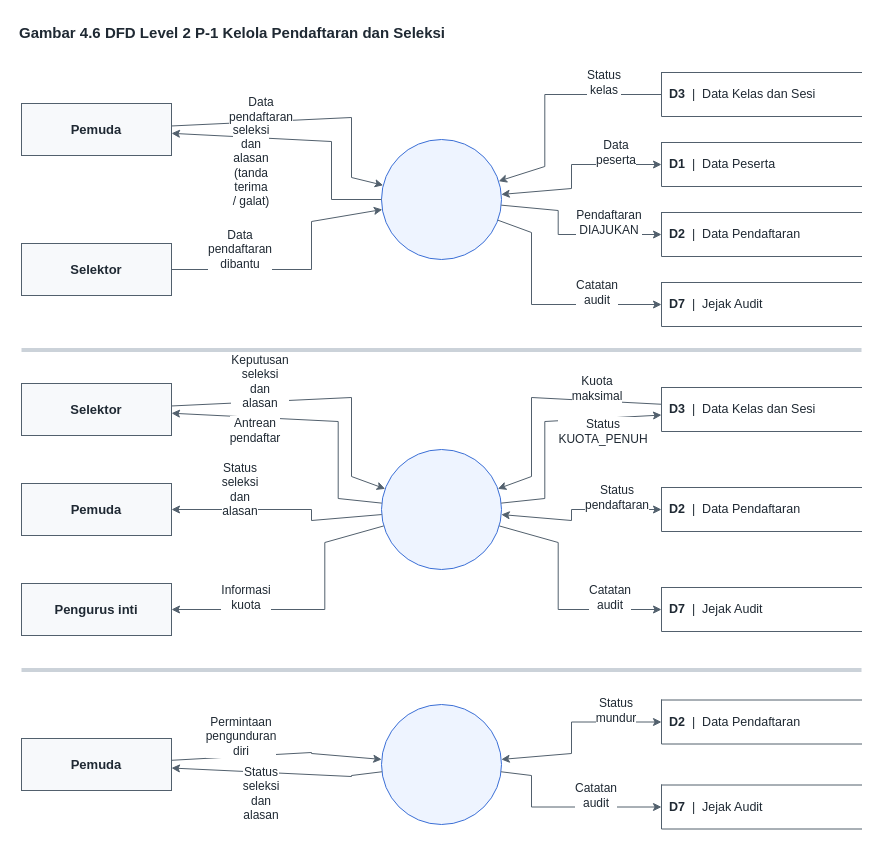
This 882x846 diagram has some shape labels left out. The shapes that lost their labels are listed below. From the top down, each one's centre as x and y in pixels, then its label:
At pixel 441 199: "P-1.1 Terima dan Validasi Pendaftaran".
At pixel 441 509: "P-1.2 Verifikasi dan Kunci Kuota".
At pixel 441 764: "P-1.3 Proses Pengunduran Diri".
